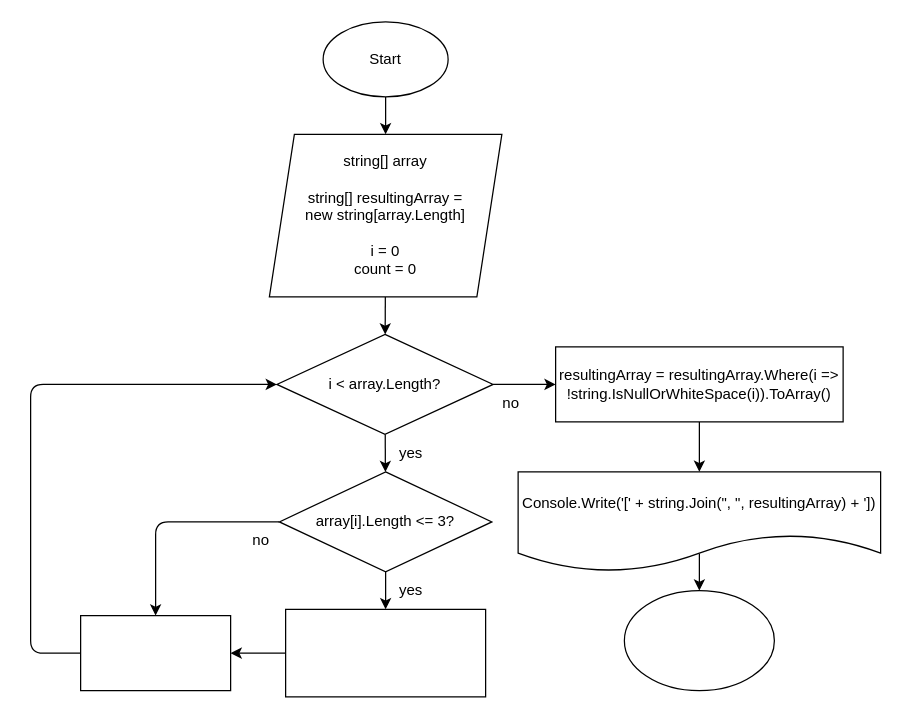
This 903x719 diagram has some shape labels left out. The shapes that lost their labels are listed below. From the top down, each one's centre as x and y in pixels, then its label:
the point at 155,652: i++
the point at 385,652: resultingArray[i] = array[i]
the point at 698,640: End.
